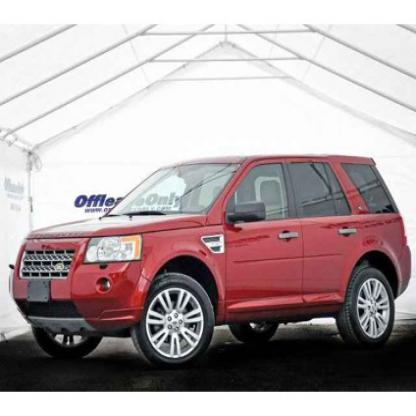Vehicle: (7, 152, 415, 374)
